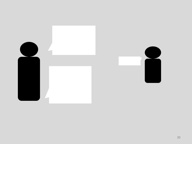left_oneway: (42, 61, 98, 109), (46, 22, 100, 57)
right_oneway: (115, 51, 143, 67)
